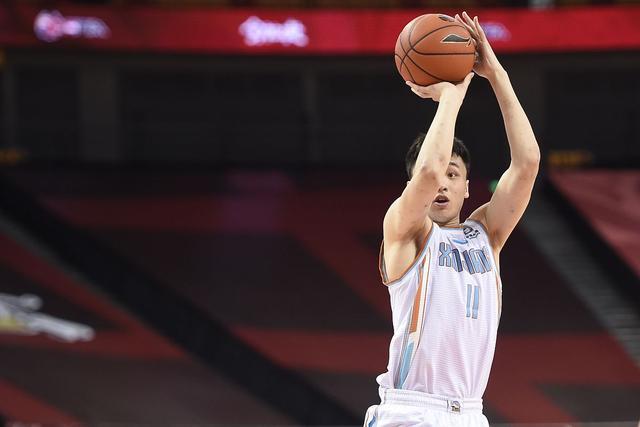ball: (393, 13, 478, 89)
